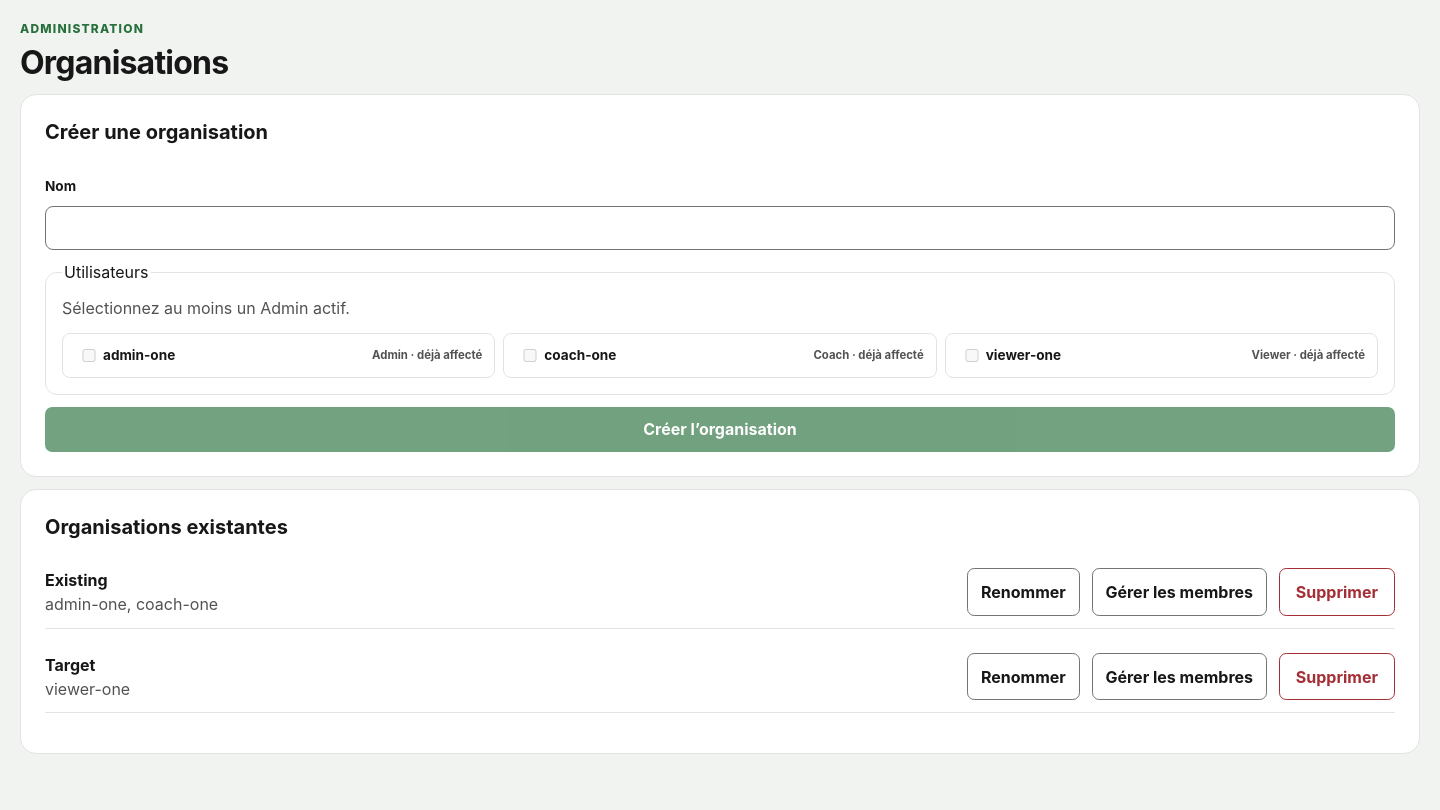
Test: blocks every business role already attached to another organization
Check: the checkbox labelled "admin-one Admin · déjà affecté" is disabled, box [79, 348, 99, 362]
Check: the checkbox labelled "coach-one Coach · déjà affecté" is disabled, box [520, 348, 540, 362]
Click the button "Gérer les membres" in the row of "Target" at (1179, 676), box [1092, 653, 1267, 700]
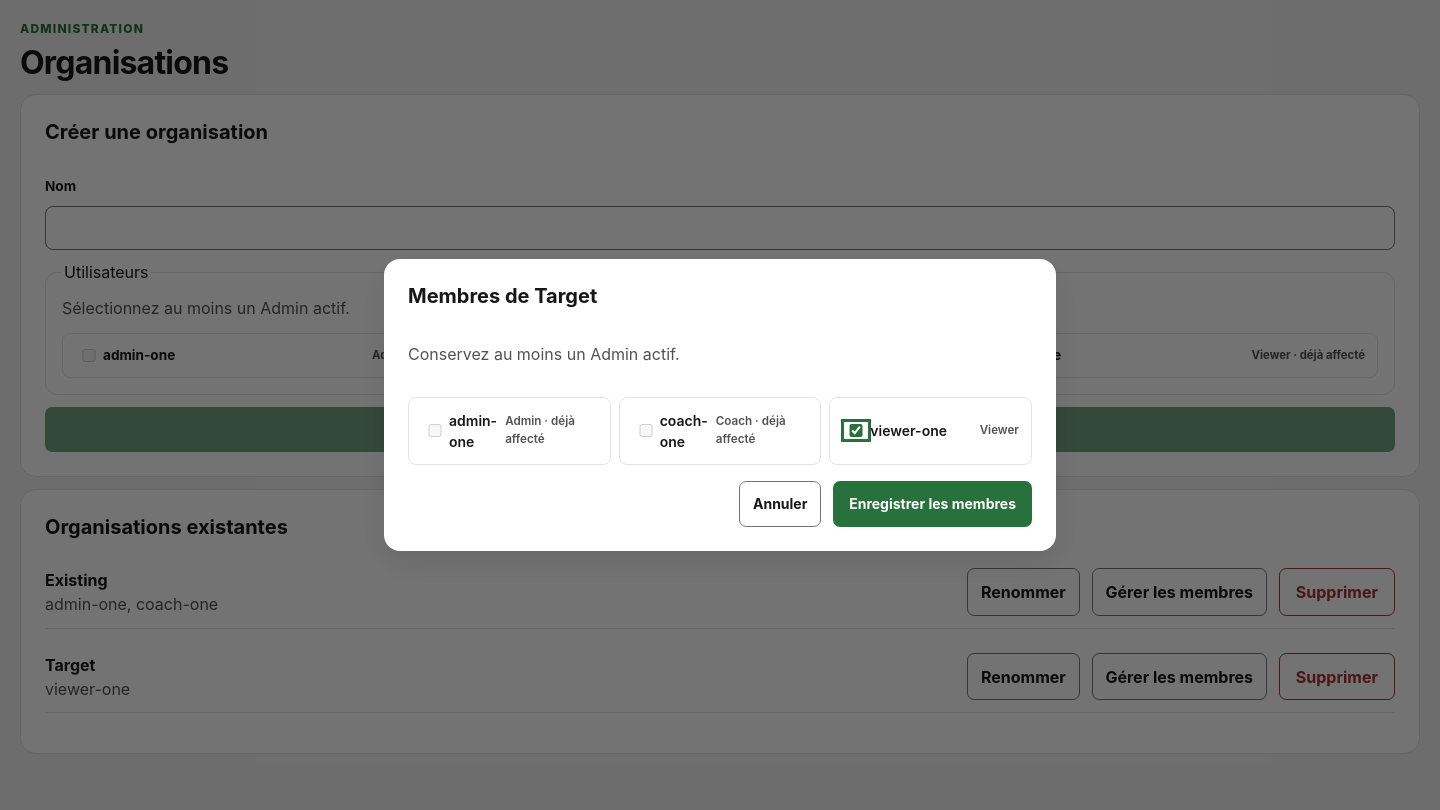
Check: the checkbox labelled "admin-one Admin · déjà affecté" is disabled, box [425, 424, 445, 437]
Check: the checkbox labelled "coach-one Coach · déjà affecté" is disabled, box [636, 424, 656, 437]
Check: the checkbox labelled "viewer-one Viewer" is enabled, box [846, 424, 866, 437]
